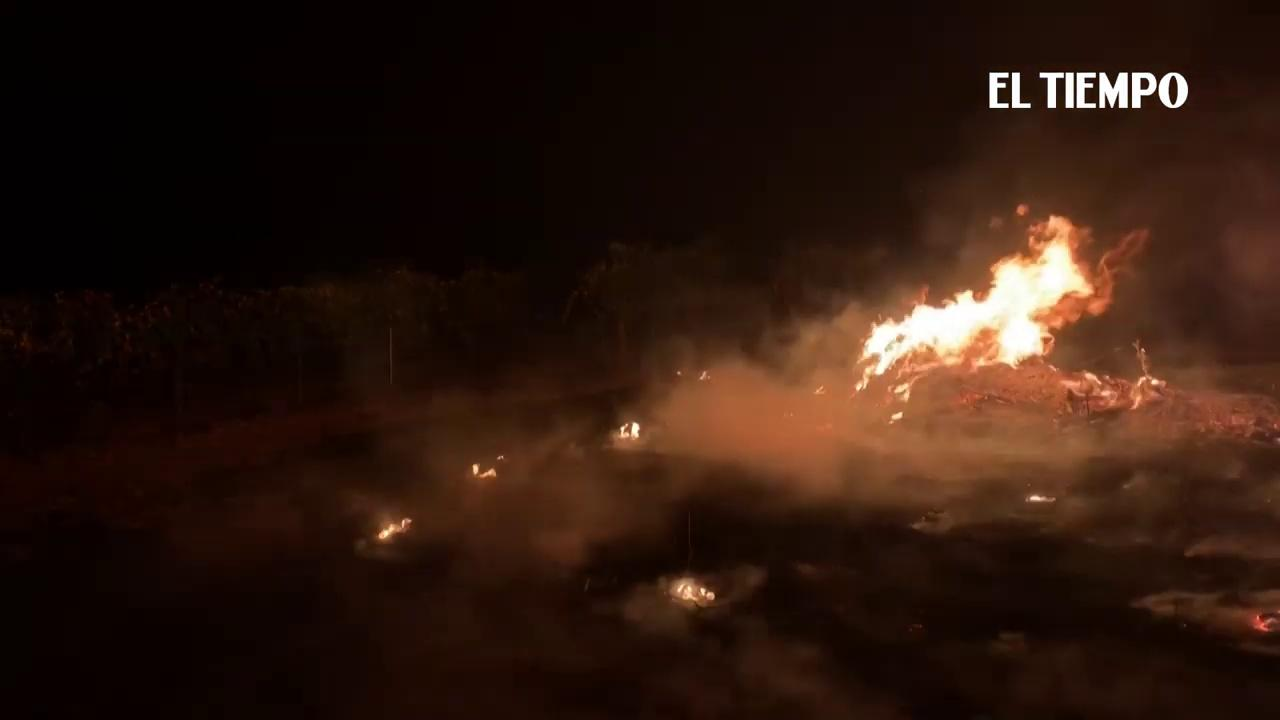Fire: (848, 214, 1150, 385), (666, 577, 717, 607), (374, 517, 411, 537), (615, 413, 643, 439), (471, 463, 504, 478)
